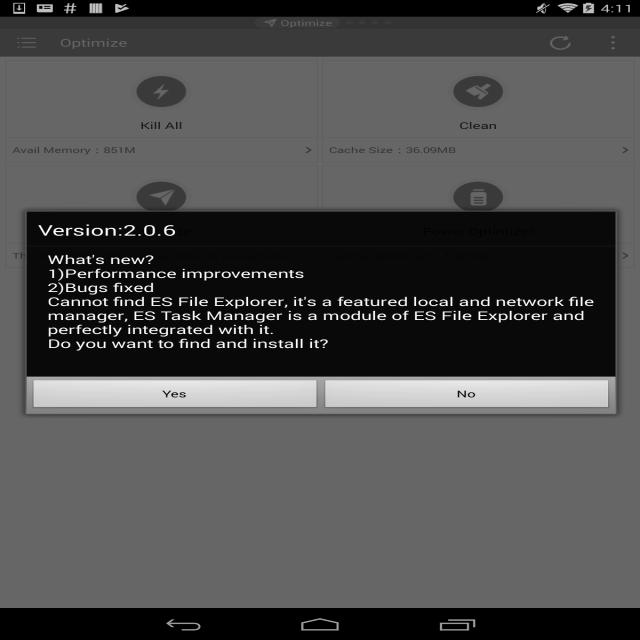Button: (321, 376, 617, 412), (28, 377, 319, 410)
ImageButton: (10, 31, 48, 53), (543, 32, 582, 52), (597, 33, 628, 54)
ImageView: (134, 74, 190, 110), (451, 73, 505, 109), (134, 180, 192, 210), (451, 180, 504, 210)
TextView: (40, 251, 598, 350), (35, 220, 186, 238), (10, 141, 146, 156), (321, 145, 465, 156), (60, 36, 136, 50)
